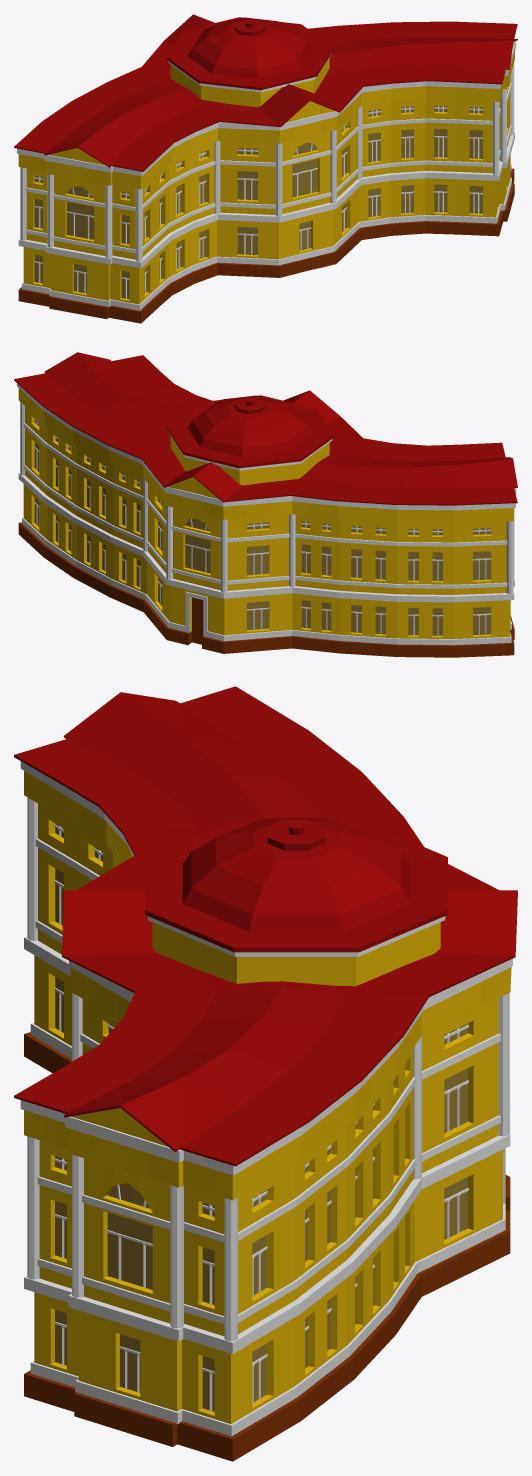
The model's file is 2polukrug.glb.
The picture shows the model from 3 angles, top to bottom: view 1: azimuth 30°, elevation 25°; view 2: azimuth 150°, elevation 25°; view 3: azimuth 270°, elevation 25°; orthographic projection. The views are drawn at different scales.
Parts seen in each view (by area): view 1: Цилиндр; view 2: Цилиндр; view 3: Цилиндр.
Part boxes in pixels (bbox=[...]): Цилиндр: bbox=[14, 14, 517, 323]; Цилиндр: bbox=[14, 352, 517, 657]; Цилиндр: bbox=[14, 686, 517, 1461].
Size of the model in its own units: 4.59 by 1.8 by 2.05.
